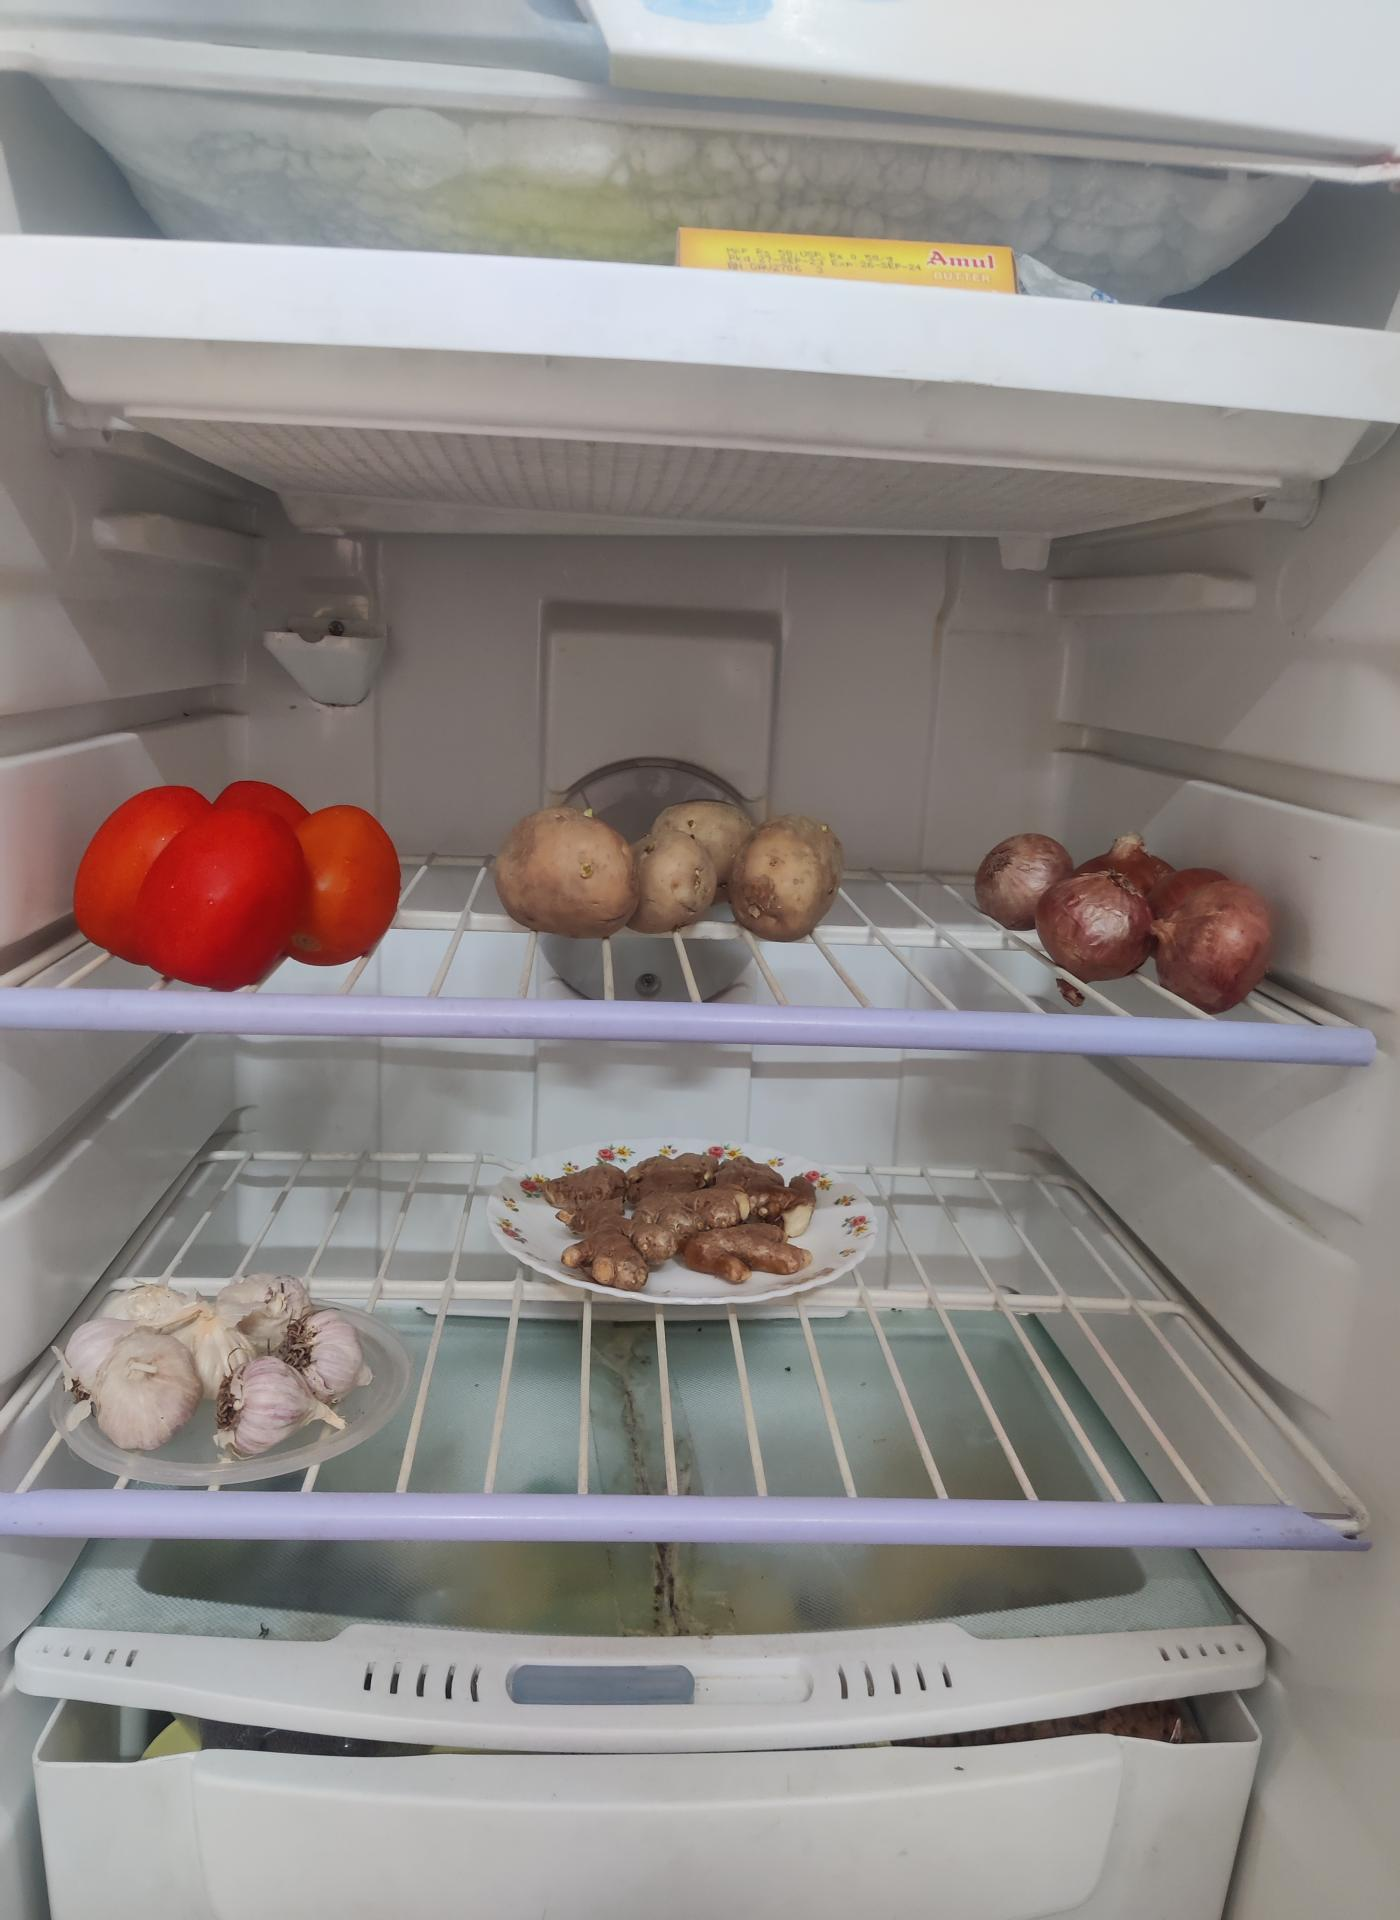garlic: (63, 1269, 358, 1447), (213, 1270, 367, 1447)
ginger: (505, 1152, 816, 1294)
onion: (983, 820, 1284, 1006)
potato: (491, 796, 850, 942)
tomato: (79, 777, 406, 987)
